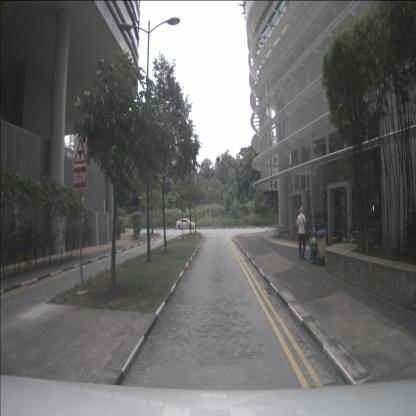human-pedestrian-adult: (296, 206, 307, 260)
vehicle-car: (176, 218, 195, 230)
